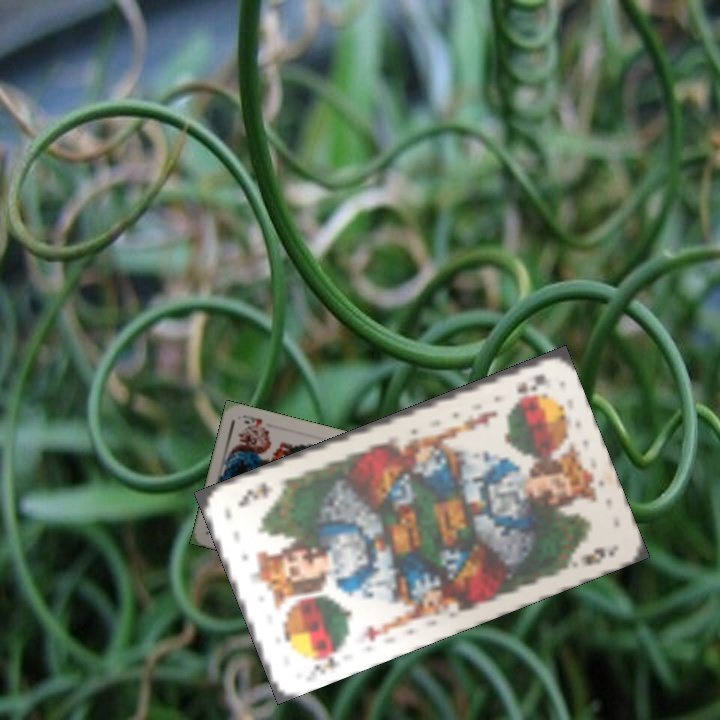SK: (304, 651, 342, 679), (512, 369, 550, 397)
